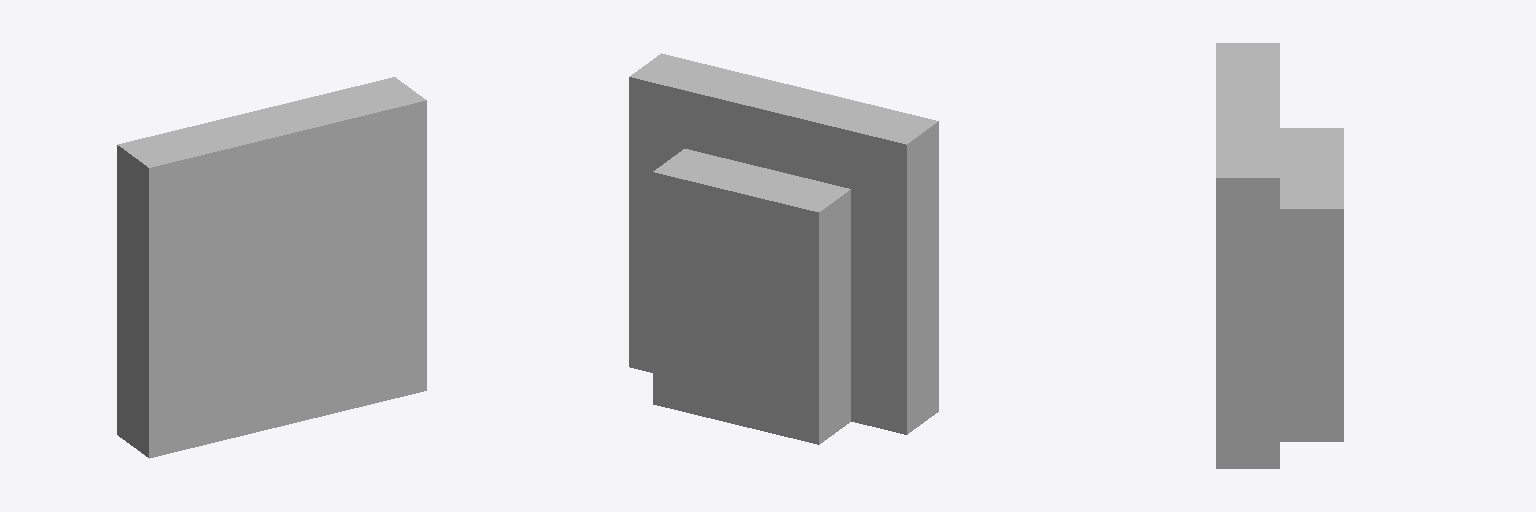
The model's file is 3D Voxel Office Pack-27.obj.
3 renders of one model, left to right at view 1: azimuth 30°, elevation 25°; view 2: azimuth 150°, elevation 25°; view 3: azimuth 270°, elevation 25°, orthographic.
Visible parts, largest first — view 1: object 1; view 2: object 1; view 3: object 1.
Boxes of the visible parts, <box> form: object 1: <box>117,77,426,458</box>; object 1: <box>629,53,938,444</box>; object 1: <box>1216,43,1343,468</box>.
Bounding box in the file's own units: 0.5 × 0.5 × 0.2.